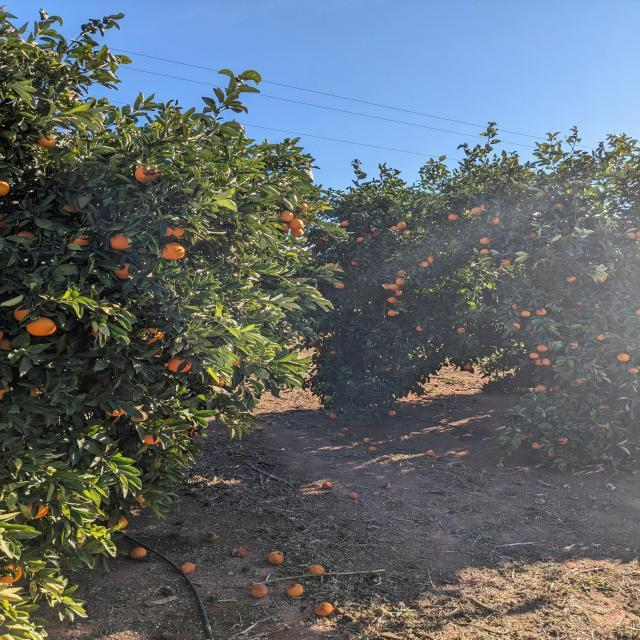Jeruk Sudah Matang: (28, 317, 56, 338), (134, 165, 162, 183), (12, 302, 38, 320), (0, 564, 23, 584), (108, 232, 133, 250), (0, 378, 18, 402), (161, 242, 184, 260), (26, 501, 50, 518), (141, 327, 163, 343), (168, 356, 190, 372), (36, 134, 56, 148), (16, 230, 36, 244), (68, 234, 89, 247), (114, 262, 131, 278), (107, 516, 128, 528), (166, 226, 186, 238), (0, 339, 16, 352), (141, 434, 161, 444), (105, 408, 126, 417), (0, 180, 11, 197), (290, 218, 304, 230), (280, 211, 294, 222), (499, 258, 514, 268), (290, 228, 304, 238), (296, 202, 312, 210), (534, 308, 548, 316), (566, 275, 578, 284), (576, 375, 587, 384), (536, 344, 548, 352), (618, 354, 630, 362), (625, 232, 637, 240), (480, 238, 492, 245), (520, 310, 532, 317), (420, 260, 430, 268), (512, 322, 522, 330), (596, 334, 606, 342), (472, 208, 482, 215), (569, 342, 579, 349), (448, 214, 459, 220), (529, 352, 540, 358), (536, 385, 547, 391), (458, 326, 466, 334), (542, 358, 550, 366), (388, 297, 397, 304), (535, 359, 544, 366), (397, 270, 407, 276), (396, 278, 406, 284), (389, 284, 399, 290), (388, 310, 398, 316), (464, 364, 474, 370), (350, 260, 360, 266), (492, 218, 500, 225), (480, 248, 489, 254), (554, 203, 563, 209), (336, 282, 344, 288), (327, 262, 335, 268), (398, 222, 406, 228), (426, 256, 434, 262), (394, 290, 402, 296), (415, 326, 423, 332), (530, 232, 538, 238), (384, 283, 391, 289), (342, 221, 350, 226), (356, 237, 364, 242), (391, 226, 398, 231), (370, 227, 378, 231), (402, 230, 410, 234), (630, 368, 638, 372)
